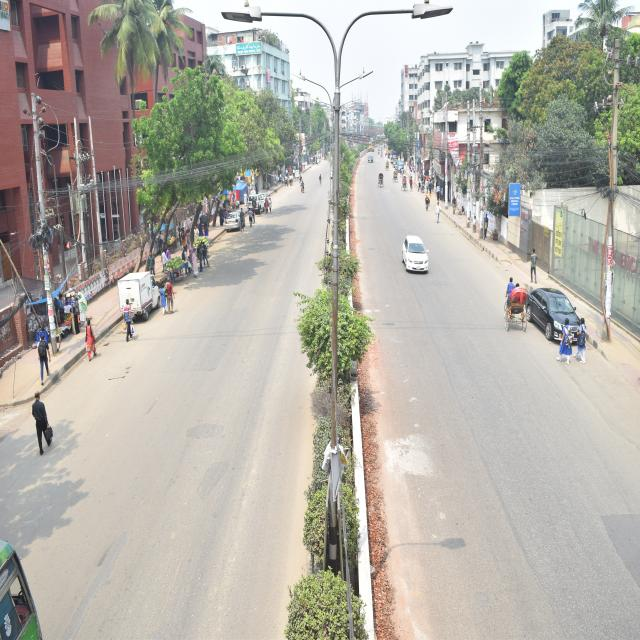bus: (0, 520, 78, 640)
car: (520, 273, 592, 364), (394, 225, 449, 283), (246, 191, 274, 222), (221, 205, 245, 236), (359, 147, 384, 175)
motorbike: (298, 175, 308, 199)
pickup-van: (110, 266, 179, 323)
